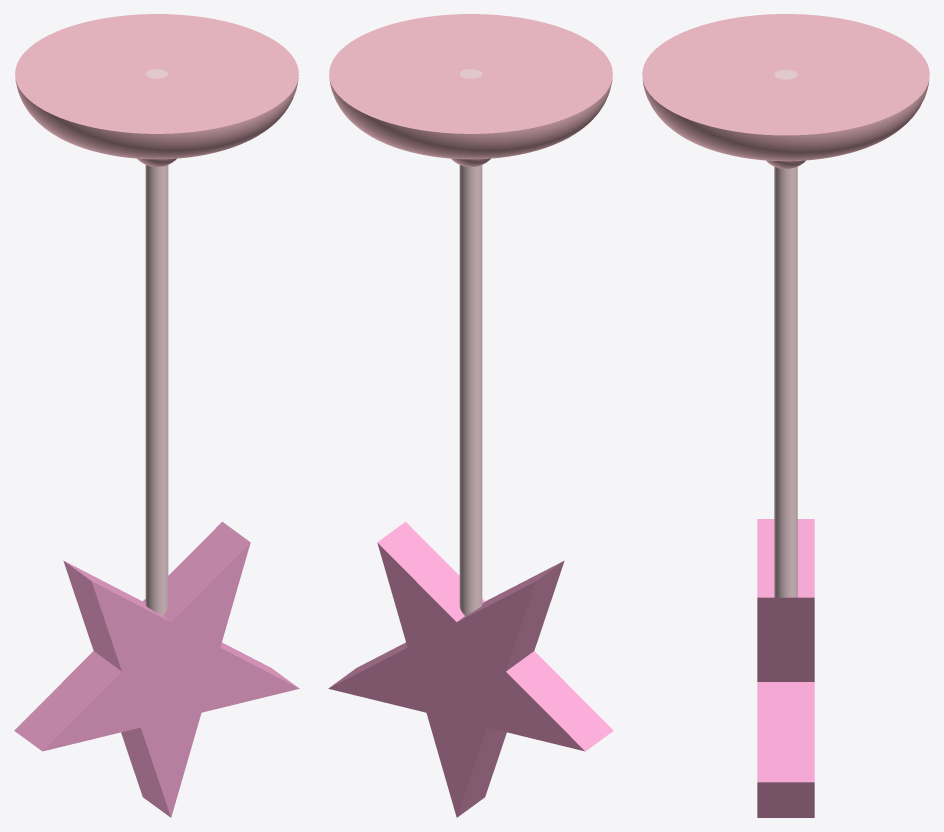
File: Assembly 1.gltf
3 views of the same model, side by side, from view 1: azimuth 30°, elevation 25°; view 2: azimuth 150°, elevation 25°; view 3: azimuth 270°, elevation 25° (orthographic).
Visible parts, largest first — view 1: Part 1 (×3); view 2: Part 1 (×3); view 3: Part 1 (×3).
Part boxes in pixels (x1=…): Part 1 (×3): x1=14, y1=14, x2=299, y2=817; Part 1 (×3): x1=328, y1=14, x2=613, y2=817; Part 1 (×3): x1=642, y1=14, x2=929, y2=817.
Bounding box in the file's own units: 0.1329 × 0.362 × 0.1269.
